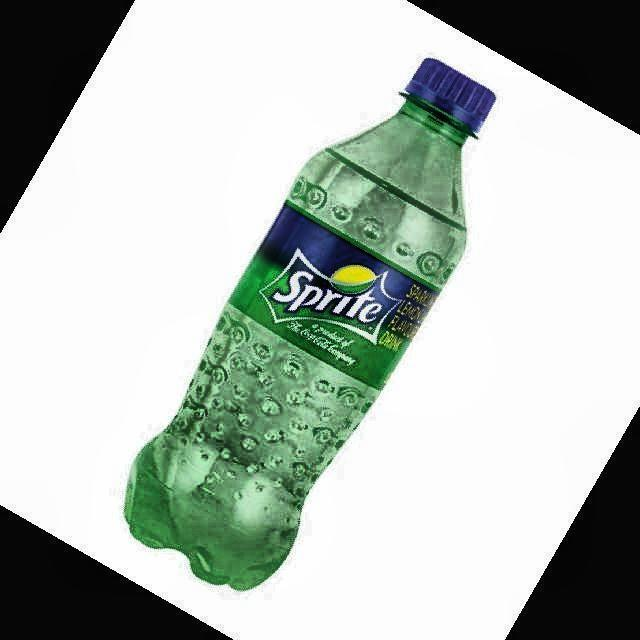plastic: (125, 60, 495, 589)
